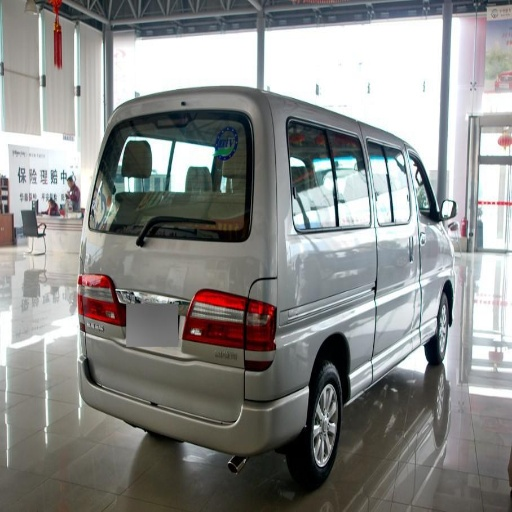back_bumper: (77, 328, 312, 454)
back_glass: (94, 114, 248, 238)
back_left_light: (76, 271, 122, 328)
back_right_door: (295, 137, 409, 229)
trunk: (88, 232, 260, 411), (290, 228, 454, 382)
